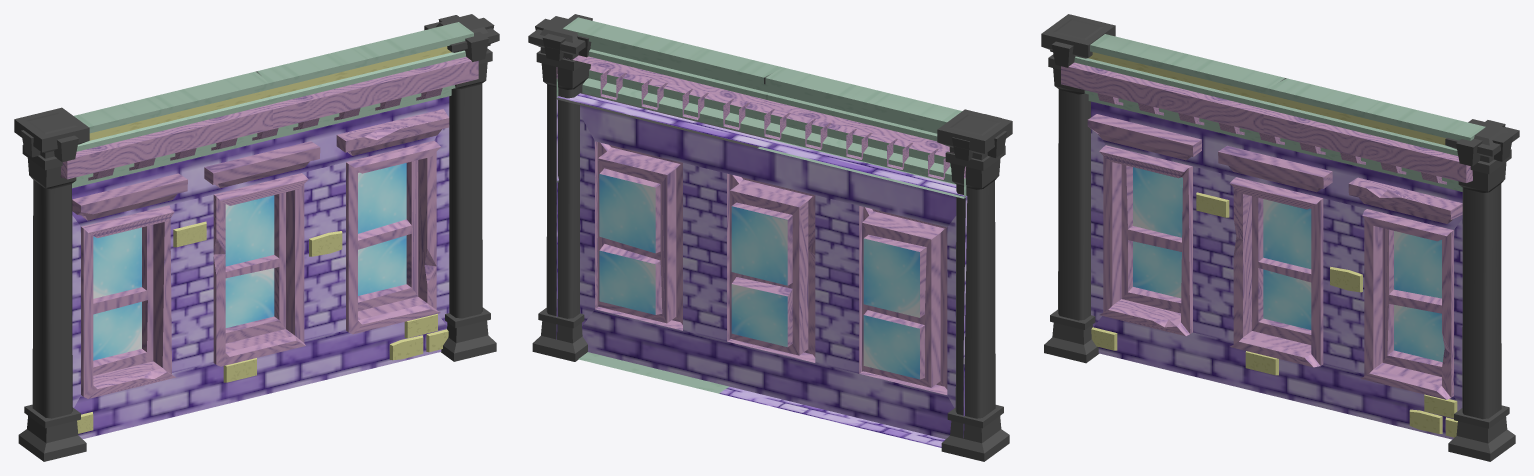
File: House_Front_05_2Pillars.fbx
The picture shows the model from 3 angles, left to right: view 1: azimuth 30°, elevation 25°; view 2: azimuth 150°, elevation 25°; view 3: azimuth 330°, elevation 25°; orthographic projection.
Parts seen in each view (by area): view 1: Column_05; view 2: Column_05; view 3: Column_05.
Part boxes in pixels (x1,y1,x2,y2): Column_05: [14, 14, 499, 461]; Column_05: [528, 14, 1012, 461]; Column_05: [1041, 14, 1519, 461].
Size of the model in its own units: 565 by 377 by 68.66.
